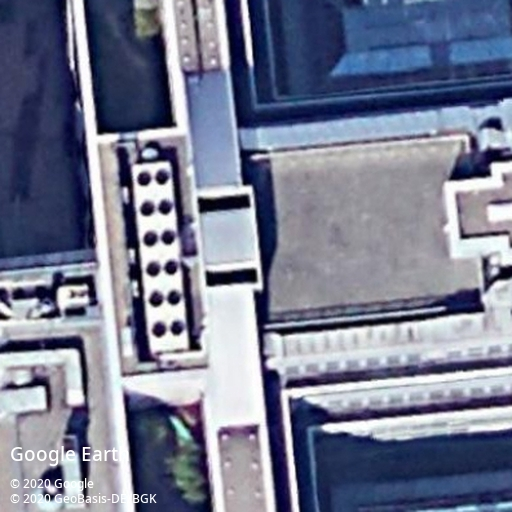Chiller: (129, 158, 192, 354)
